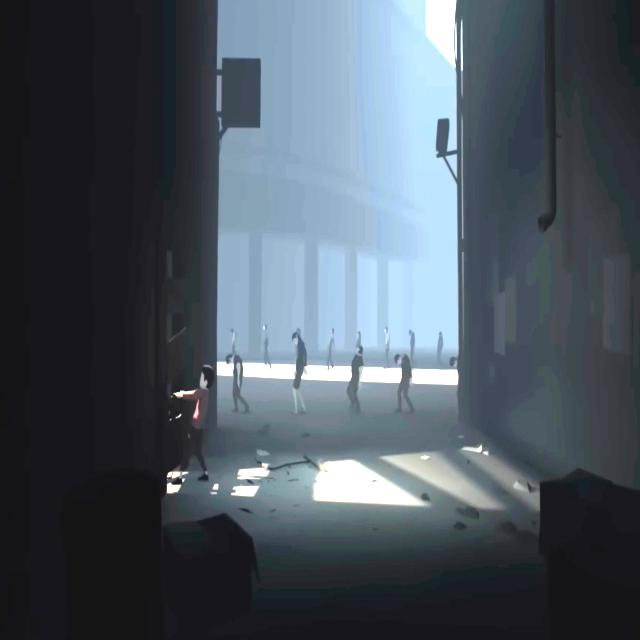boy: (171, 364, 215, 486)
